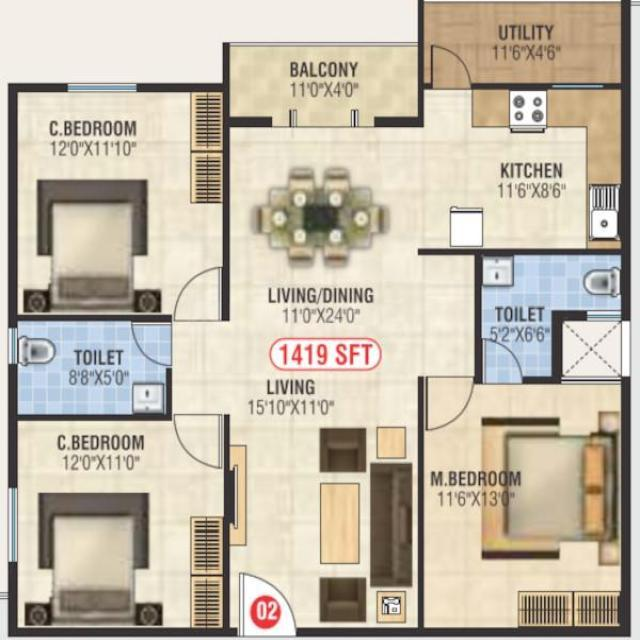Balcony-Sitout: (222, 44, 423, 127)
Bedroom: (11, 83, 229, 319)
Bedroom with Toilet: (420, 254, 631, 636), (7, 318, 229, 638)
Dining: (252, 164, 397, 268)
Kitchen: (422, 86, 632, 252)
Living: (225, 409, 424, 634)
Toilet: (473, 251, 629, 385), (9, 317, 174, 420)
Utility: (417, 0, 630, 87)
